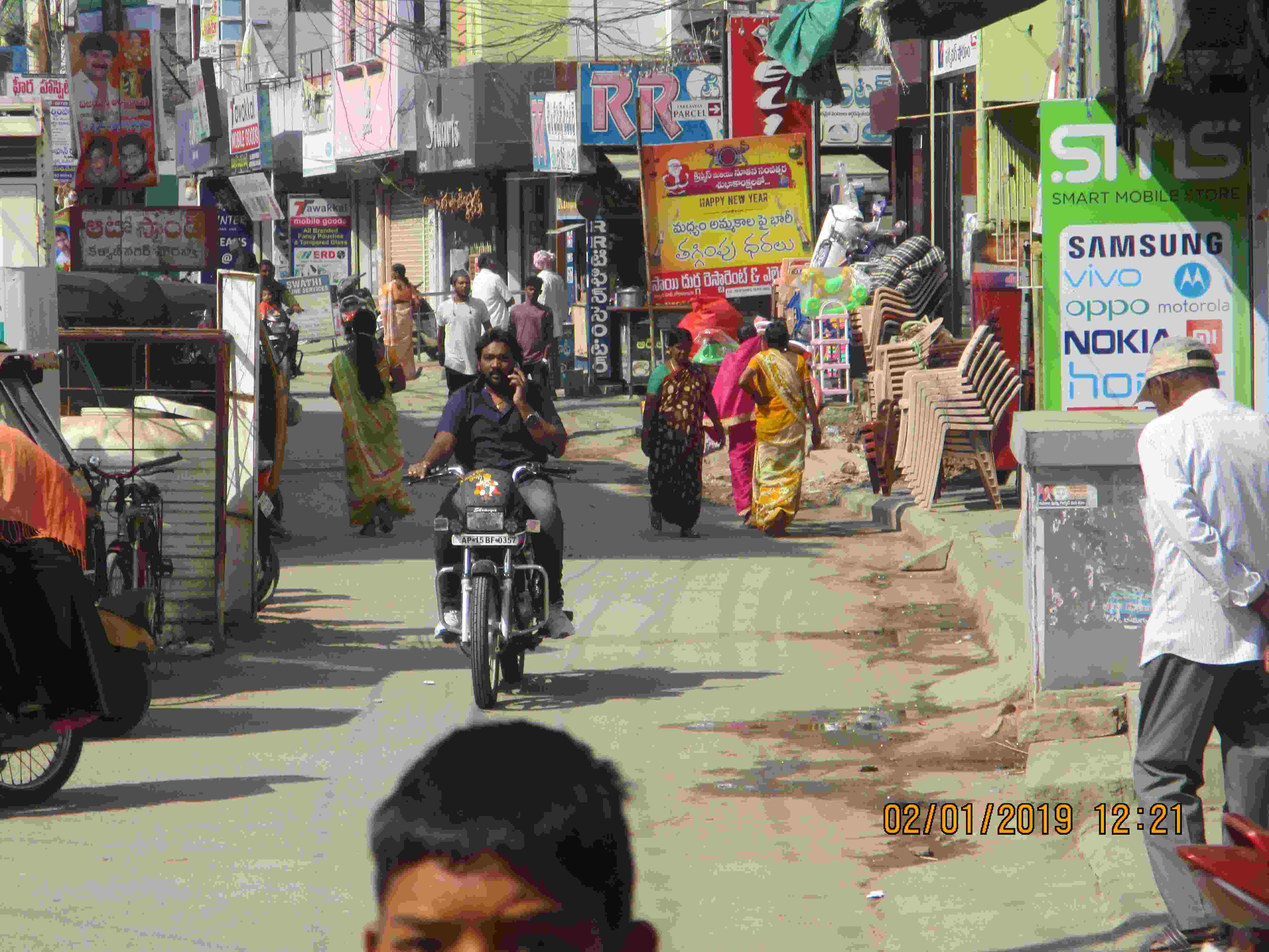plate: (442, 522, 525, 548)
